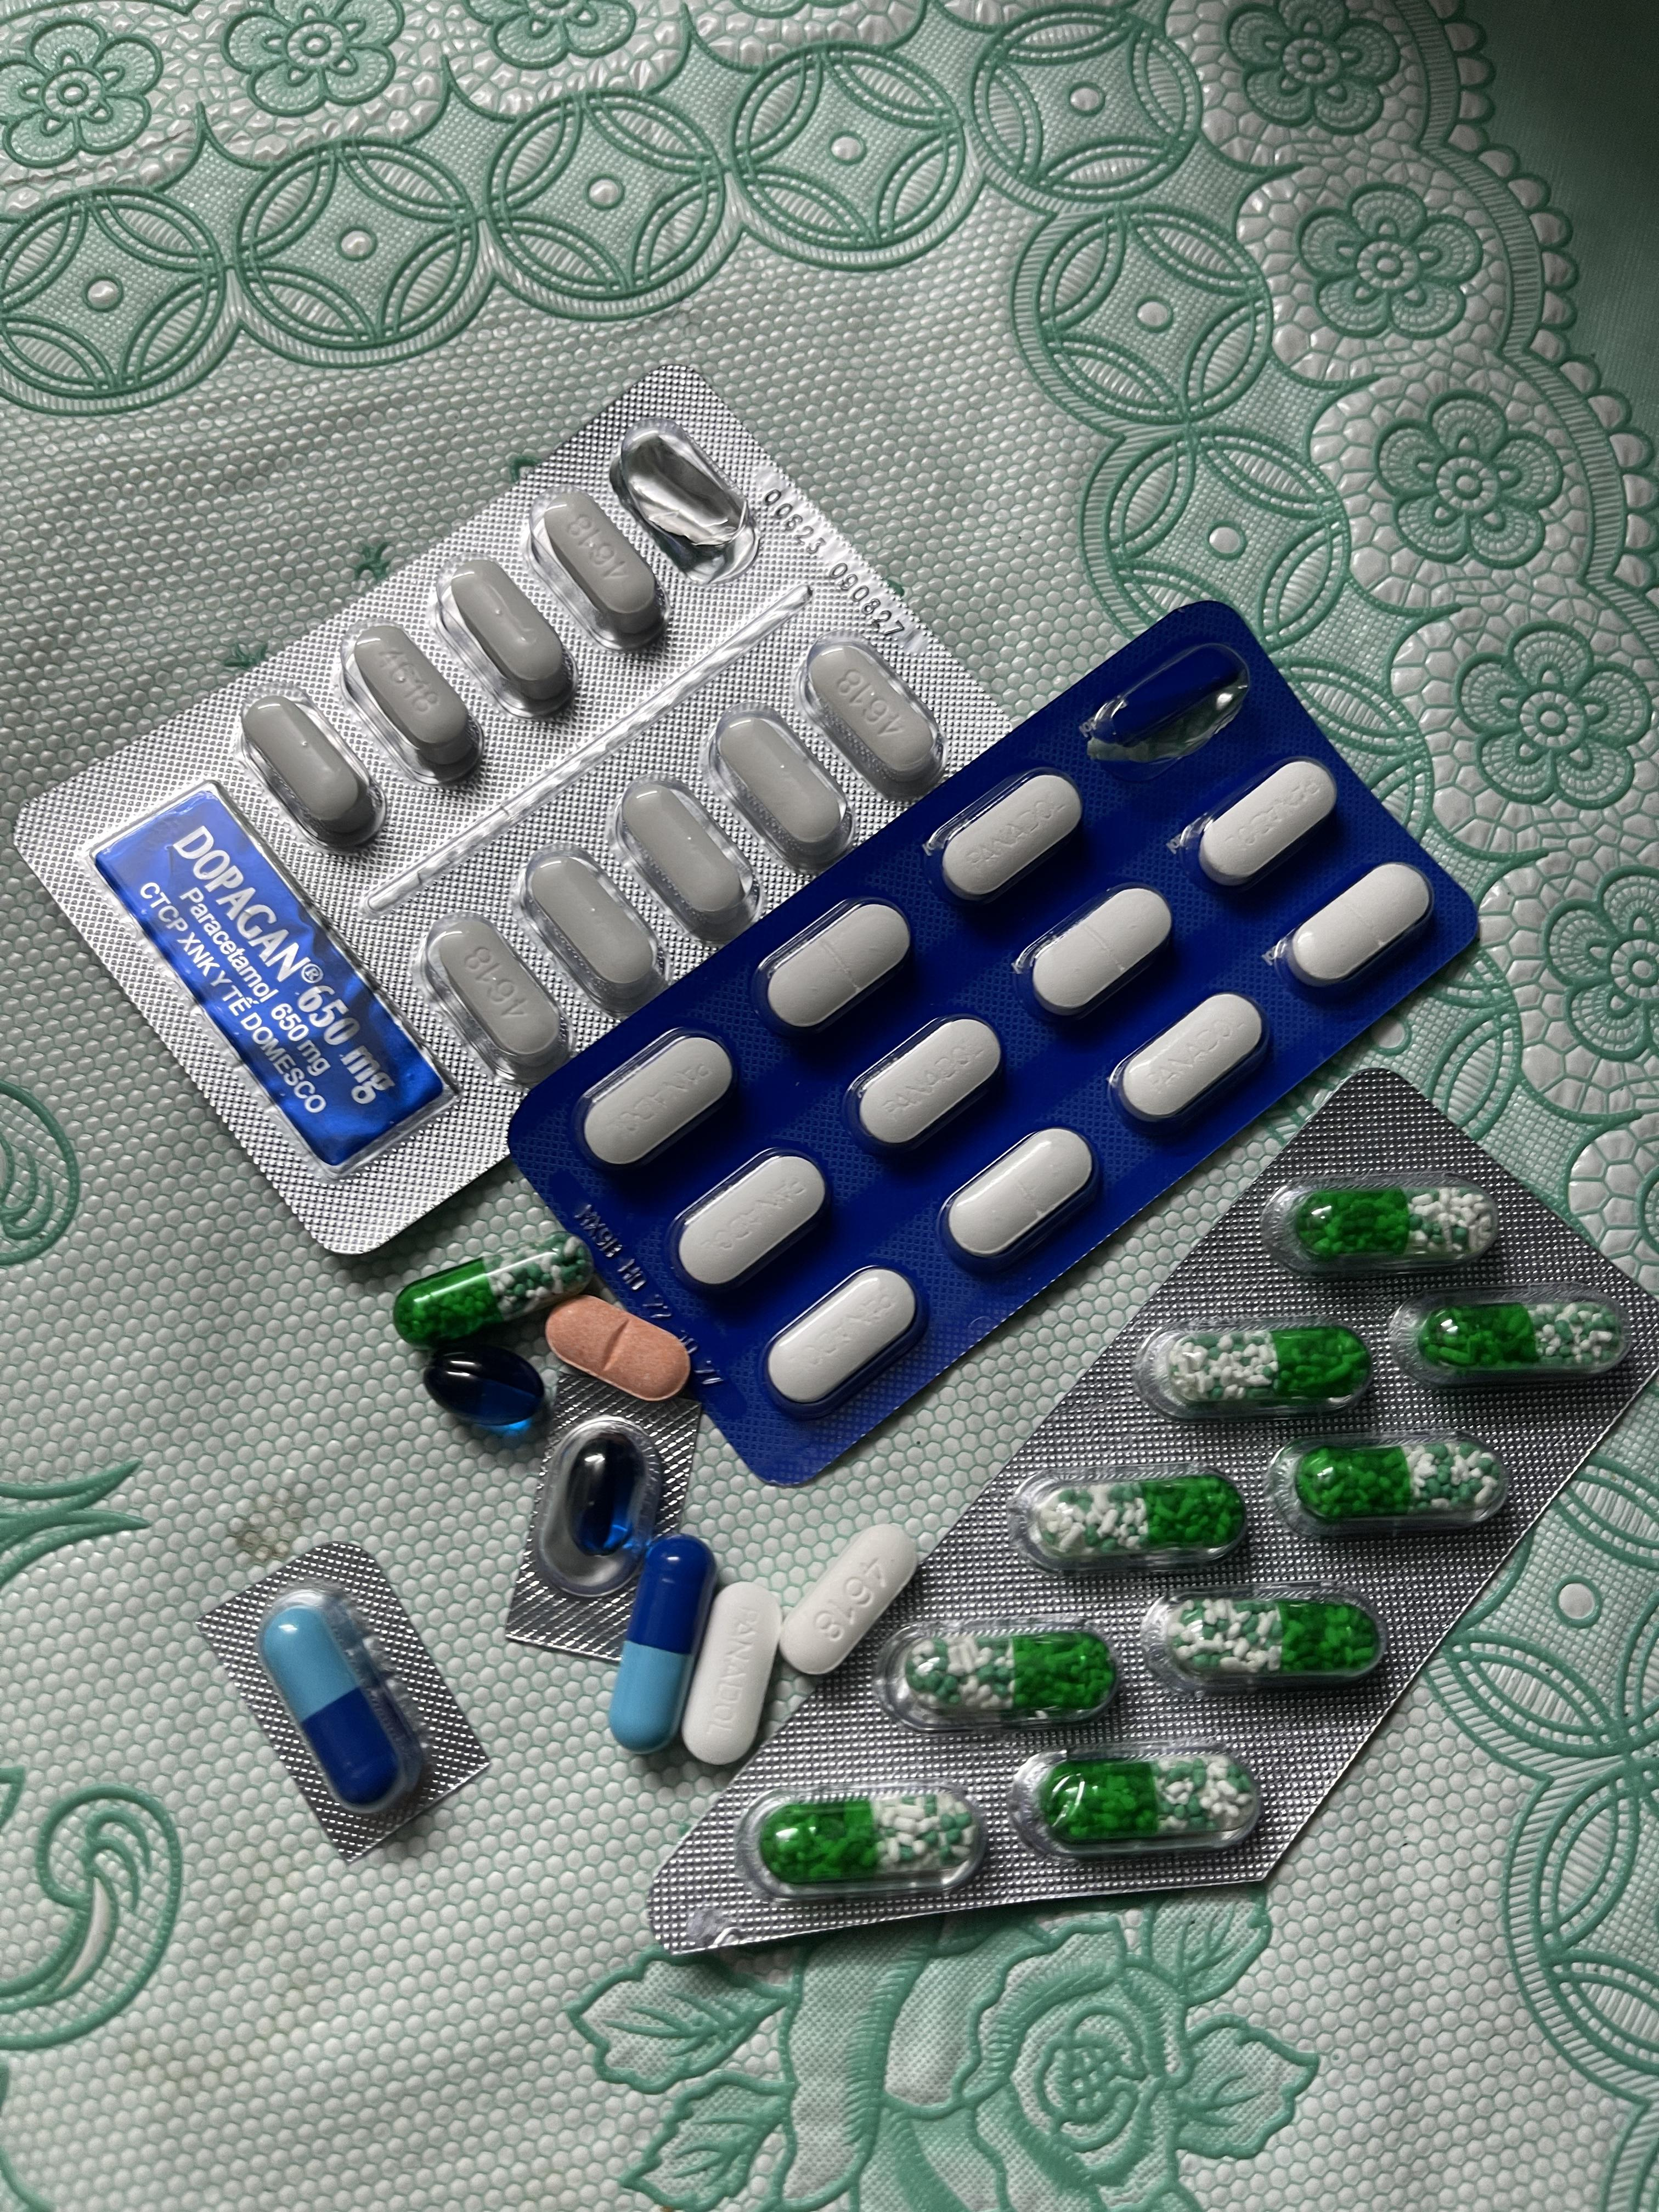Lincomyxin_500mg: (423, 1348, 547, 1432), (573, 1446, 640, 1554)
Loratadine_10mg: (549, 1298, 694, 1402)
Paracetamol_350mg: (579, 1029, 741, 1174), (847, 1014, 1007, 1158), (763, 1271, 924, 1416), (669, 1146, 826, 1291), (755, 894, 913, 1036), (1117, 993, 1269, 1134), (943, 1129, 1096, 1268), (1276, 860, 1432, 993), (938, 766, 1087, 904), (1023, 885, 1168, 1022), (1192, 758, 1338, 890), (681, 1581, 781, 1766)
Paracetamol_500mg: (516, 841, 667, 1017), (418, 911, 572, 1083), (613, 779, 763, 948), (706, 704, 854, 869), (237, 690, 385, 853), (528, 486, 669, 655), (340, 624, 481, 791), (798, 634, 938, 799), (437, 559, 577, 723), (781, 1527, 918, 1677)
Paracetamol_650mg: (394, 1242, 591, 1343), (758, 1794, 974, 1883), (1042, 1756, 1241, 1843), (910, 1630, 1112, 1714), (1290, 1444, 1499, 1524), (1415, 1305, 1629, 1374), (1166, 1601, 1370, 1674), (1044, 1479, 1234, 1557), (1293, 1193, 1500, 1264), (1176, 1329, 1363, 1407)
pill: (256, 1583, 425, 1817), (610, 1536, 716, 1756)
